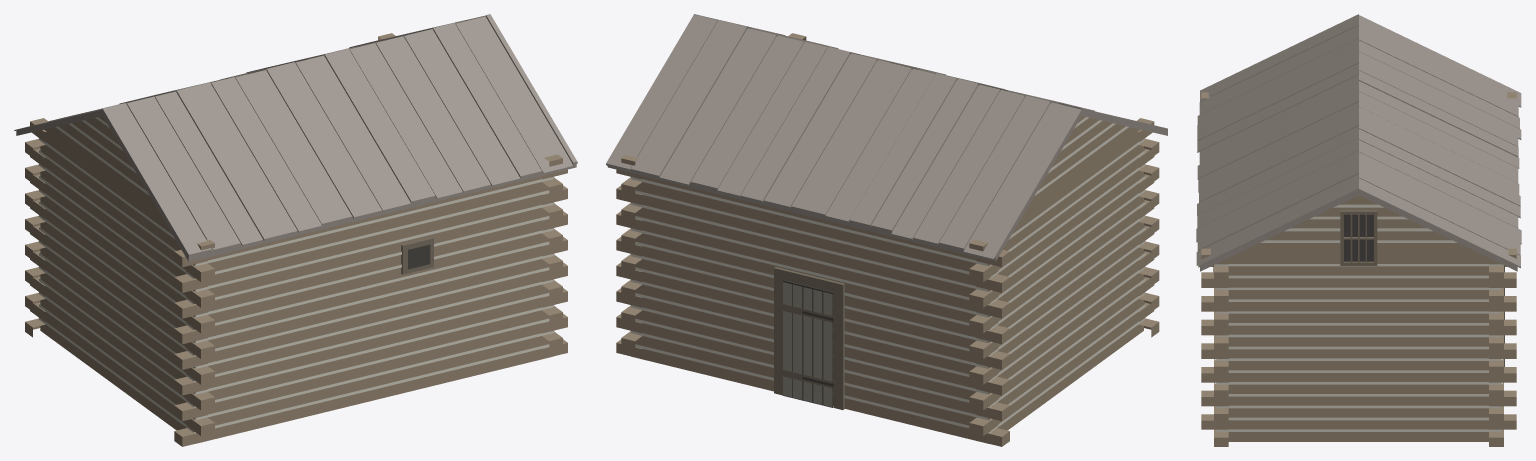
The model's file is log_jail__log_1833.glb.
The picture shows the model from 3 angles, left to right: view 1: azimuth 30°, elevation 25°; view 2: azimuth 150°, elevation 25°; view 3: azimuth 270°, elevation 25°; orthographic projection. The views are drawn at different scales.
Visible parts, largest first — view 1: log_jail__log_1833; view 2: log_jail__log_1833; view 3: log_jail__log_1833.
Part boxes in pixels (bbox=[...]): log_jail__log_1833: bbox=[14, 14, 577, 446]; log_jail__log_1833: bbox=[606, 14, 1167, 446]; log_jail__log_1833: bbox=[1196, 14, 1521, 446].
Size of the model in its own units: 6.61 by 4.6 by 5.21.
